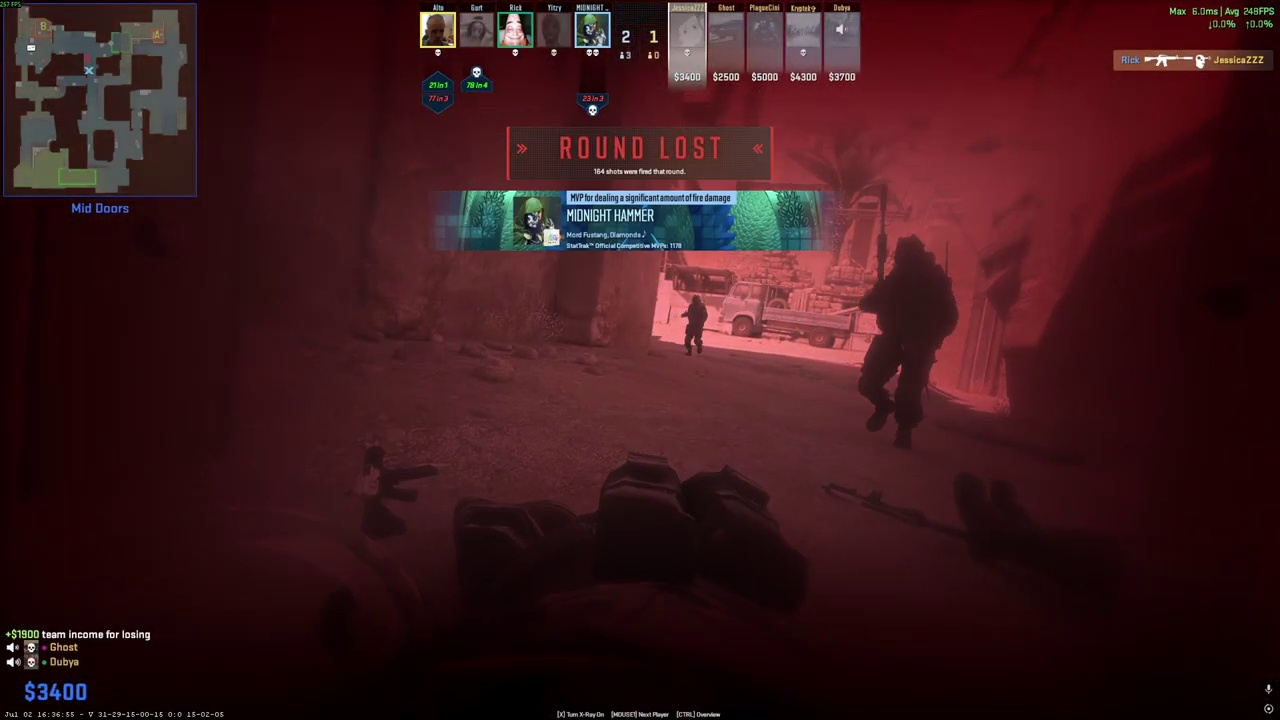CT: (854, 238, 949, 448), (683, 295, 707, 355)
